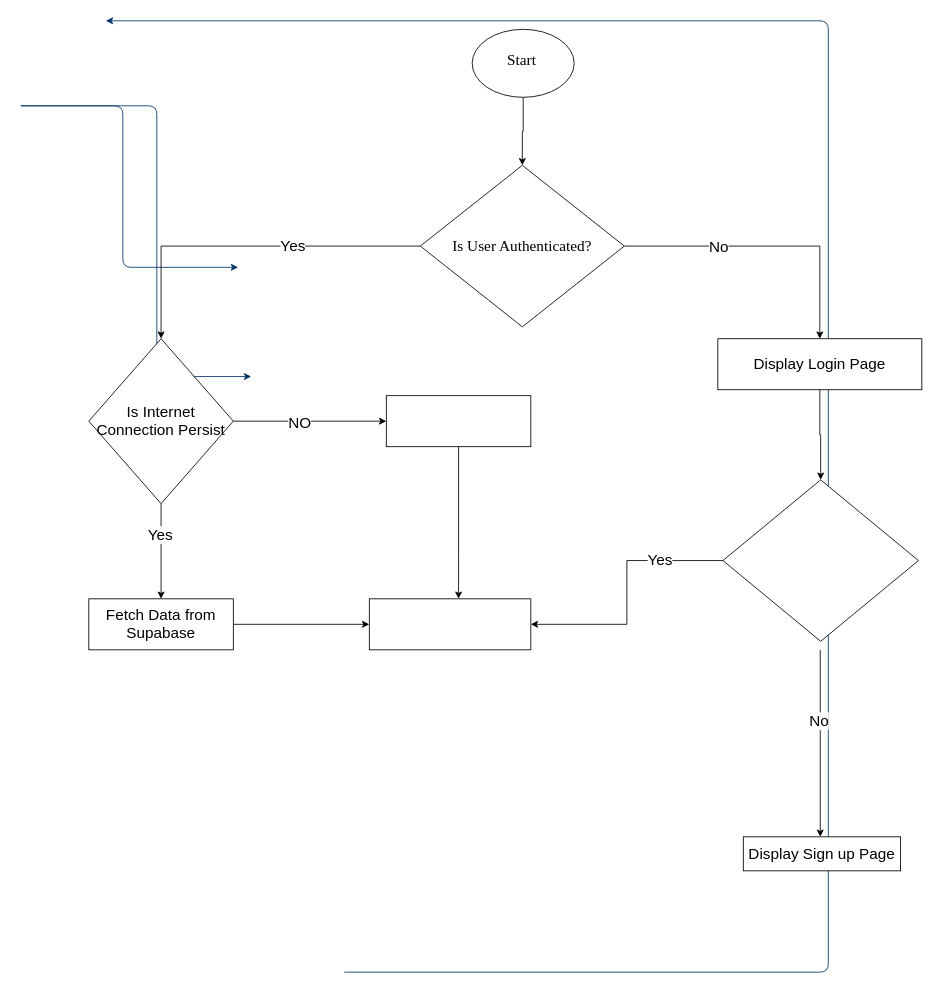
This 937x995 diagram has some shape labels left out. Each missing label, with the centre of its shape:
"Display Blogs from Local Storage" belongs at (x=458, y=421).
"Does user Have an Account?" belongs at (x=820, y=560).
"Go To HomePage" belongs at (x=449, y=624).
